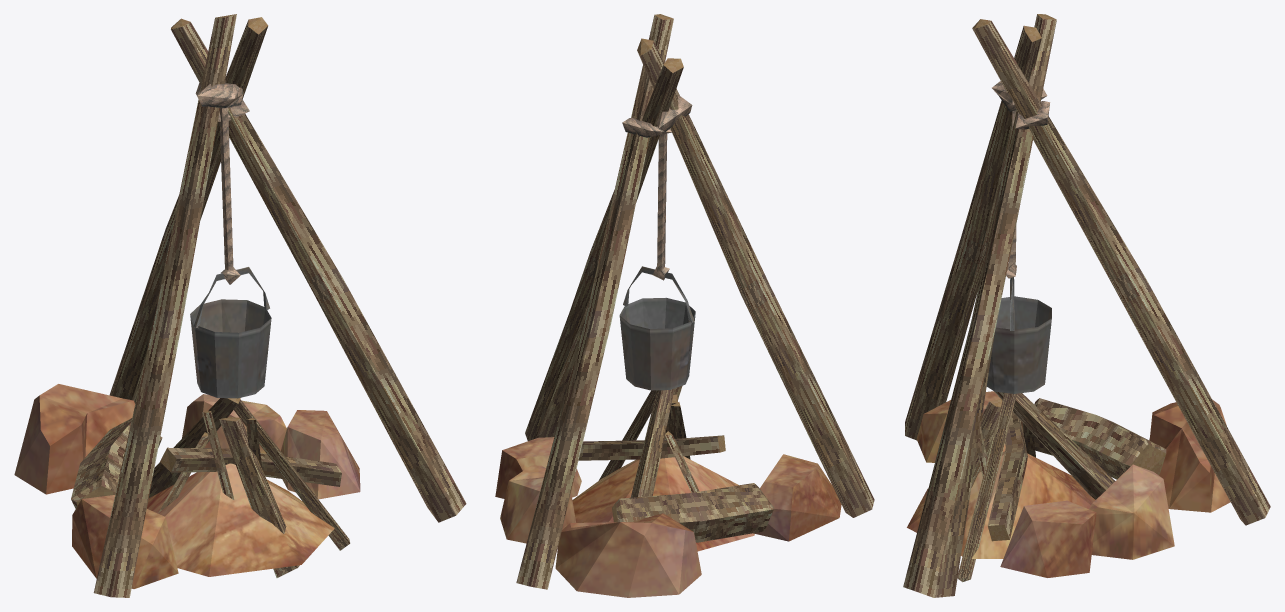
File: C2SMCAMPFIRE_H.obj
3 renders of one model, left to right at view 1: azimuth 30°, elevation 25°; view 2: azimuth 150°, elevation 25°; view 3: azimuth 270°, elevation 25°, orthographic. The views are drawn at different scales.
Parts seen in each view (by area): view 1: Node 0, Node 4, Node 6, Node 3, Node 5; view 2: Node 0, Node 5, Node 4, Node 3, Node 6; view 3: Node 0, Node 5, Node 6, Node 4, Node 3.
Boxes of the visible parts, box(x1,y1,x2,y2) form: Node 0: box(14, 384, 360, 588); Node 4: box(93, 14, 243, 597); Node 6: box(171, 18, 466, 522); Node 3: box(190, 107, 271, 398); Node 5: box(109, 17, 268, 403); Node 0: box(495, 385, 841, 597); Node 5: box(516, 14, 673, 589); Node 4: box(637, 38, 874, 517); Node 3: box(619, 133, 695, 390); Node 6: box(525, 58, 683, 440); Node 0: box(907, 391, 1230, 582); Node 5: box(972, 19, 1270, 525); Node 6: box(903, 14, 1056, 597); Node 4: box(905, 25, 1047, 440); Node 3: box(986, 110, 1051, 393).
Bounding box in the file's own units: 2.96 × 4.21 × 2.63.
9 materials, 9 textured.
